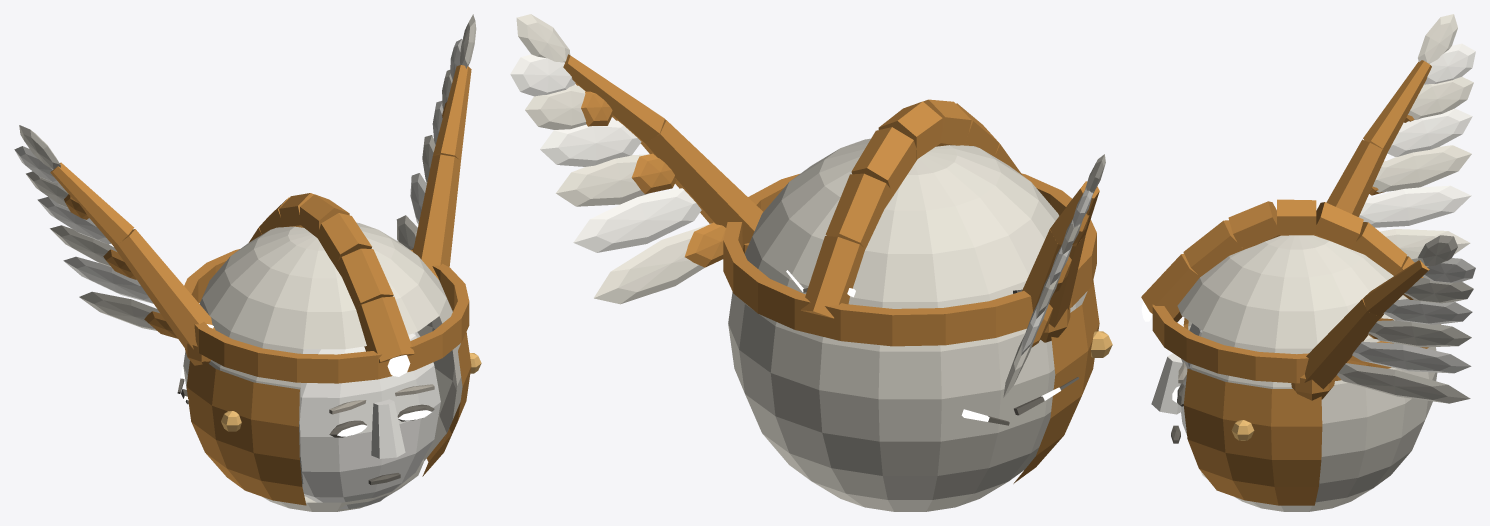
File: sky_guardian_helm.glb
The picture shows the model from 3 angles, left to right: view 1: azimuth 30°, elevation 25°; view 2: azimuth 150°, elevation 25°; view 3: azimuth 270°, elevation 25°; orthographic projection. The views are drawn at different scales.
Parts seen in each view (by area): view 1: sky_guardian_helm; view 2: sky_guardian_helm; view 3: sky_guardian_helm.
Part boxes in pixels (<box>): sky_guardian_helm: <box>14,14,481,511</box>; sky_guardian_helm: <box>510,14,1112,511</box>; sky_guardian_helm: <box>1141,14,1475,511</box>.
Size of the model in its own units: 1.37 by 1.08 by 0.8742.
